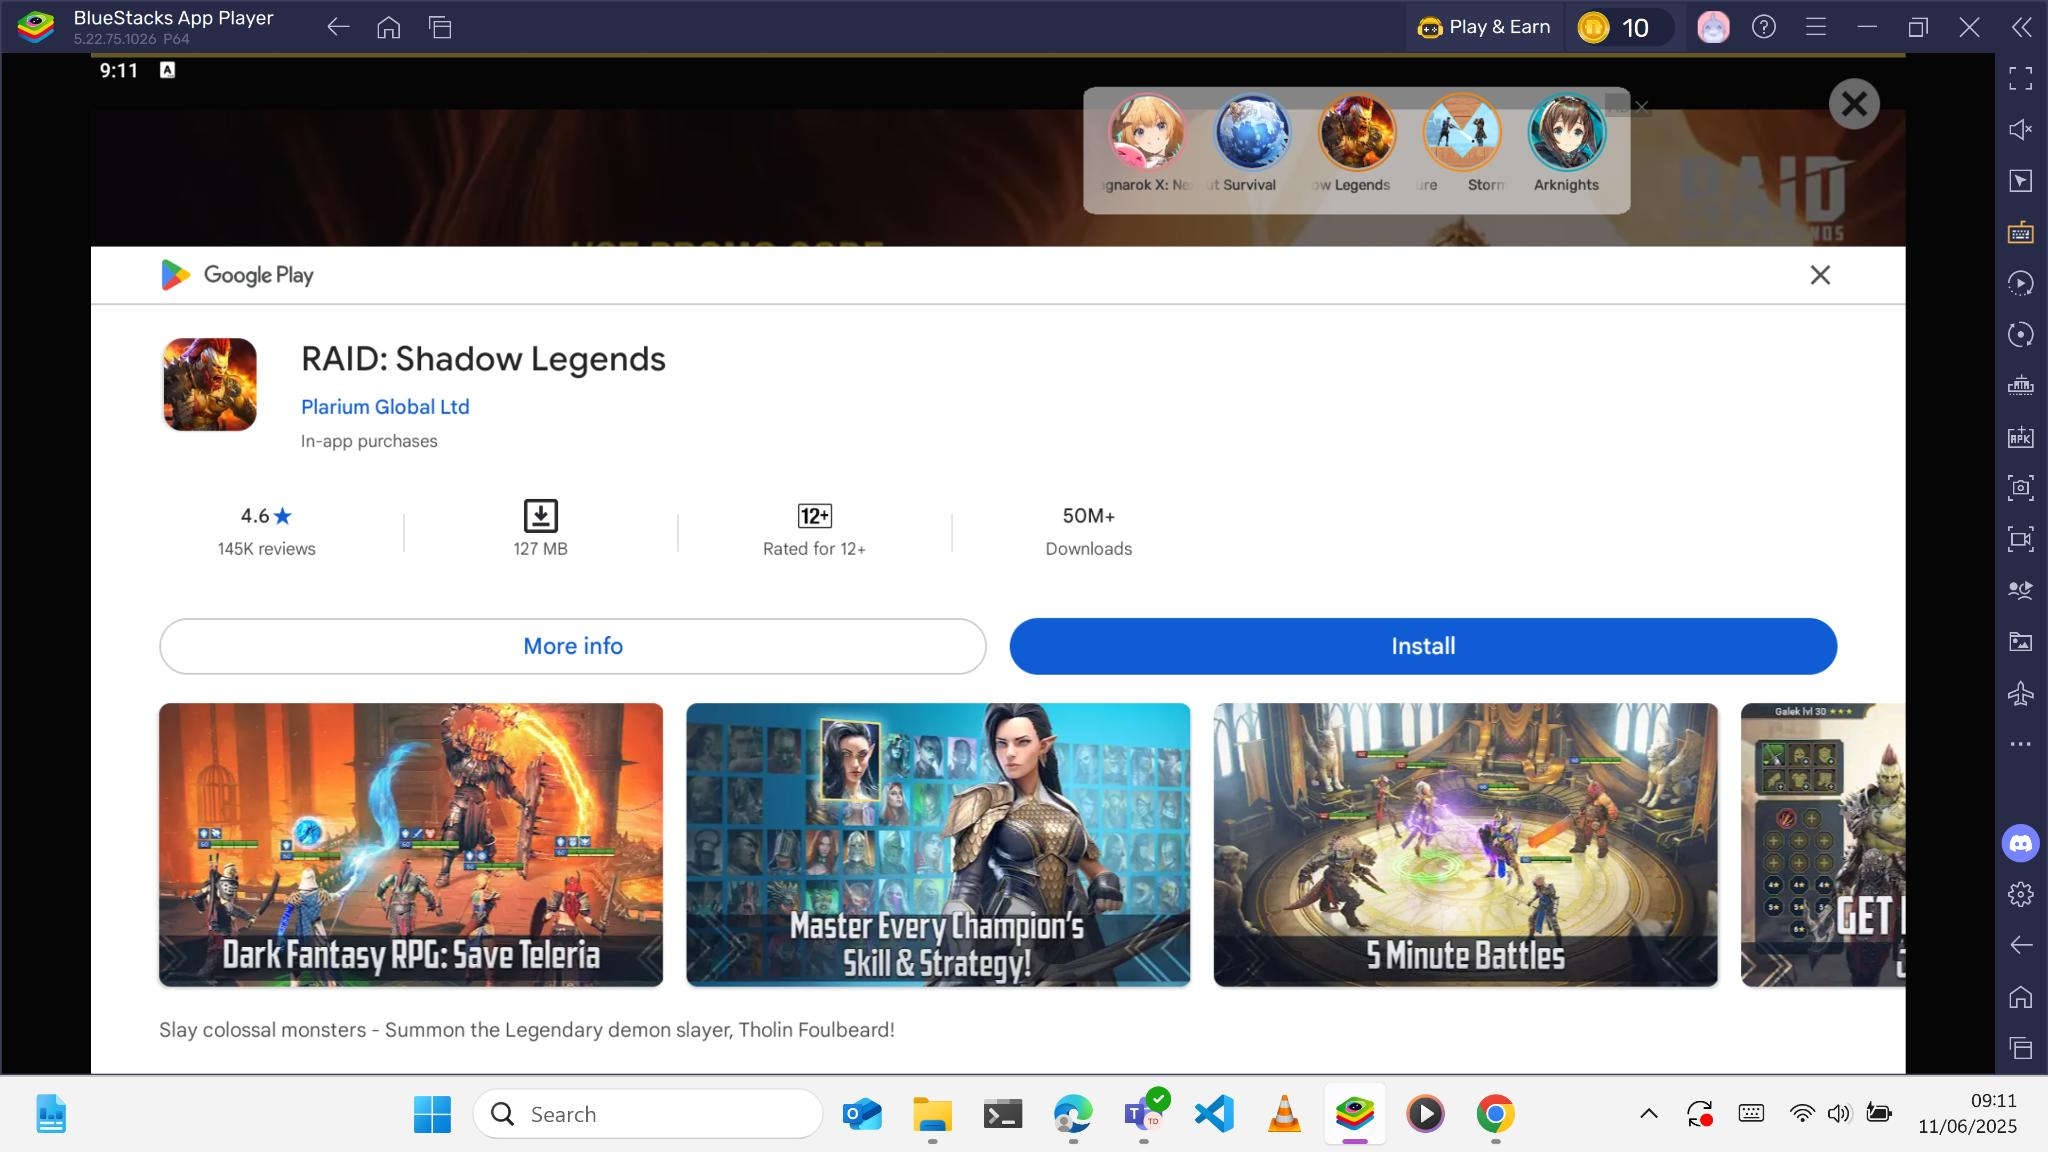close_ad: (1809, 264, 1831, 286)
